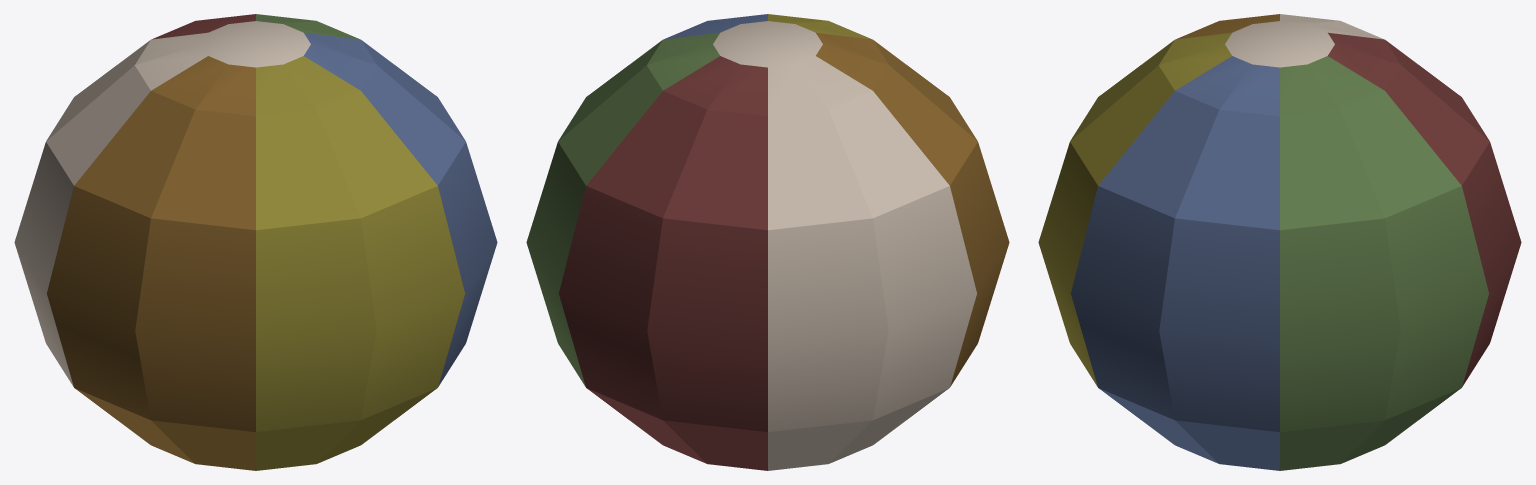
The model's file is Beach_Ball.fbx.
3 views of the same model, side by side, from view 1: azimuth 30°, elevation 25°; view 2: azimuth 150°, elevation 25°; view 3: azimuth 270°, elevation 25° (orthographic).
Visible parts, largest first — view 1: Beach_Ball; view 2: Beach_Ball; view 3: Beach_Ball.
Boxes of the visible parts, bbox=[...] form: Beach_Ball: bbox=[14, 14, 497, 470]; Beach_Ball: bbox=[526, 14, 1009, 470]; Beach_Ball: bbox=[1038, 14, 1521, 470].
Size of the model in its own units: 5.91 by 5.35 by 5.91.
